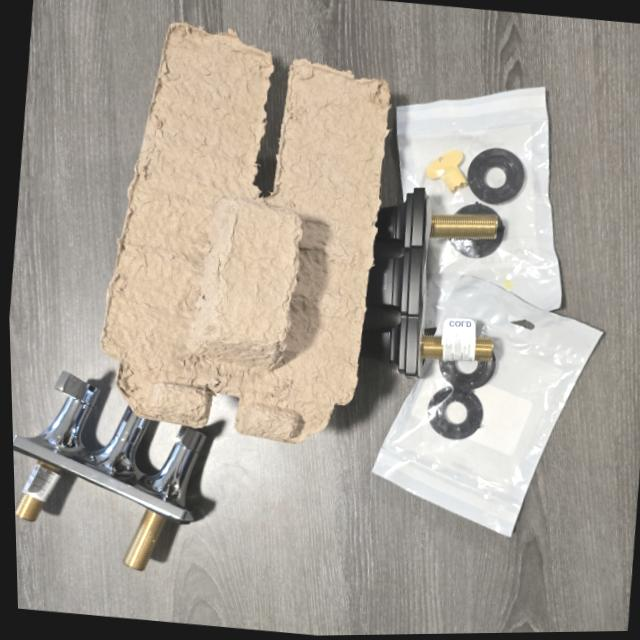10o: (13, 371, 204, 569)
12o: (395, 86, 560, 327)
13o: (371, 274, 601, 534)
9o: (361, 186, 503, 376)
